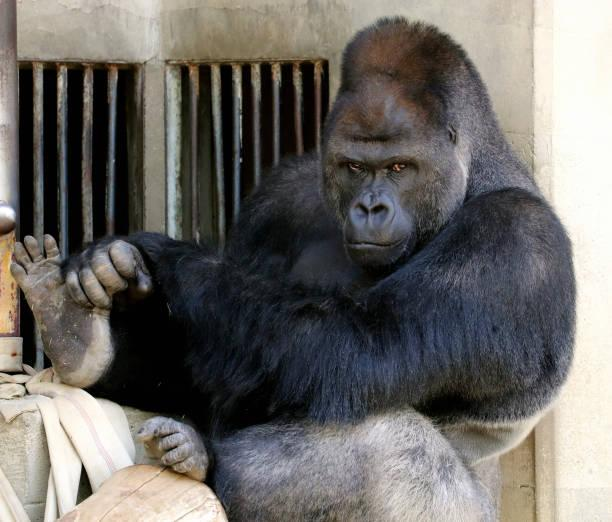gorille_Autres: (130, 0, 553, 522)
